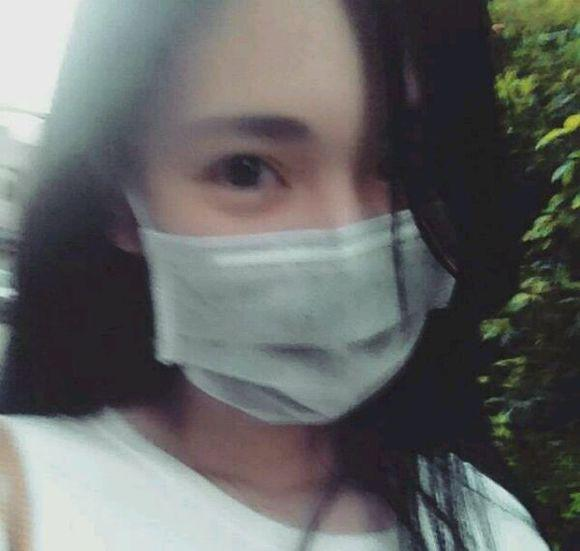OK: (127, 94, 445, 412)
